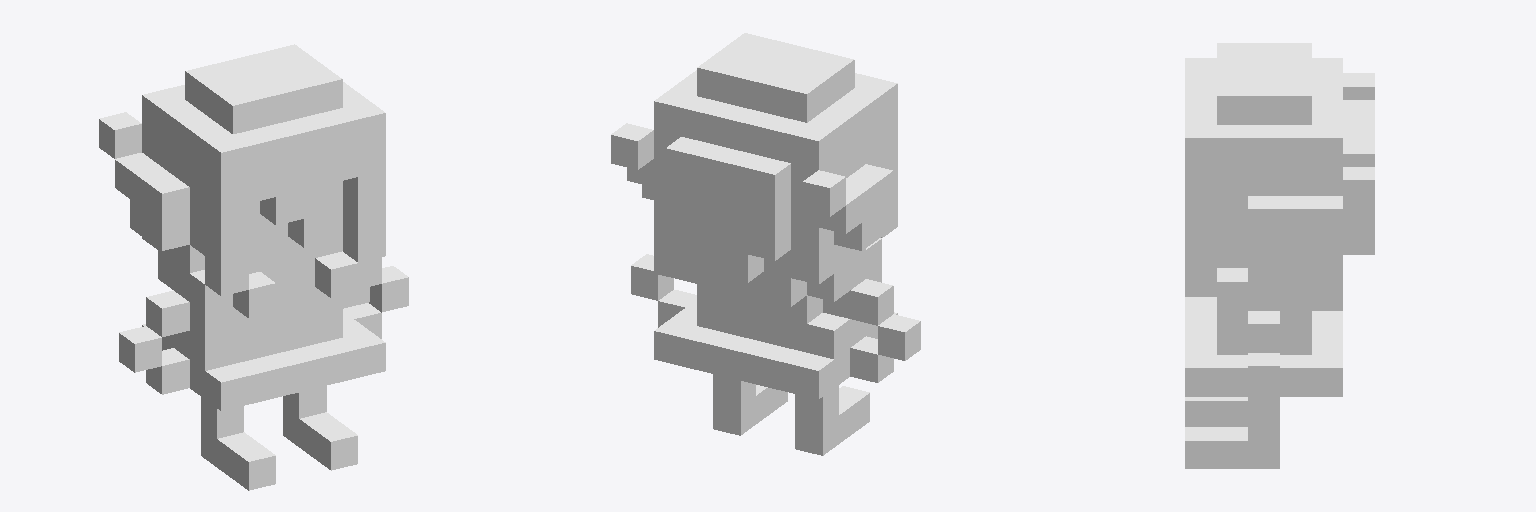
Rendered from elfa.obj.
3 views of the same model, side by side, from view 1: azimuth 30°, elevation 25°; view 2: azimuth 150°, elevation 25°; view 3: azimuth 270°, elevation 25° (orthographic).
Visible parts, largest first — view 1: object 1; view 2: object 1; view 3: object 1.
Part boxes in pixels (x1,y1,x2,y2): object 1: (99, 44, 408, 490); object 1: (611, 33, 920, 455); object 1: (1185, 43, 1374, 468).
Size of the model in its own units: 1 by 1.3 by 0.6.